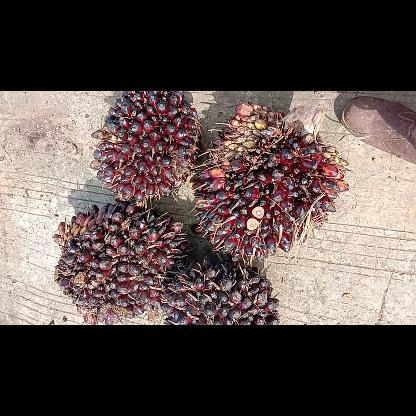TBS mentah: (192, 100, 350, 262), (50, 198, 192, 324), (88, 90, 204, 208), (160, 256, 280, 324)
